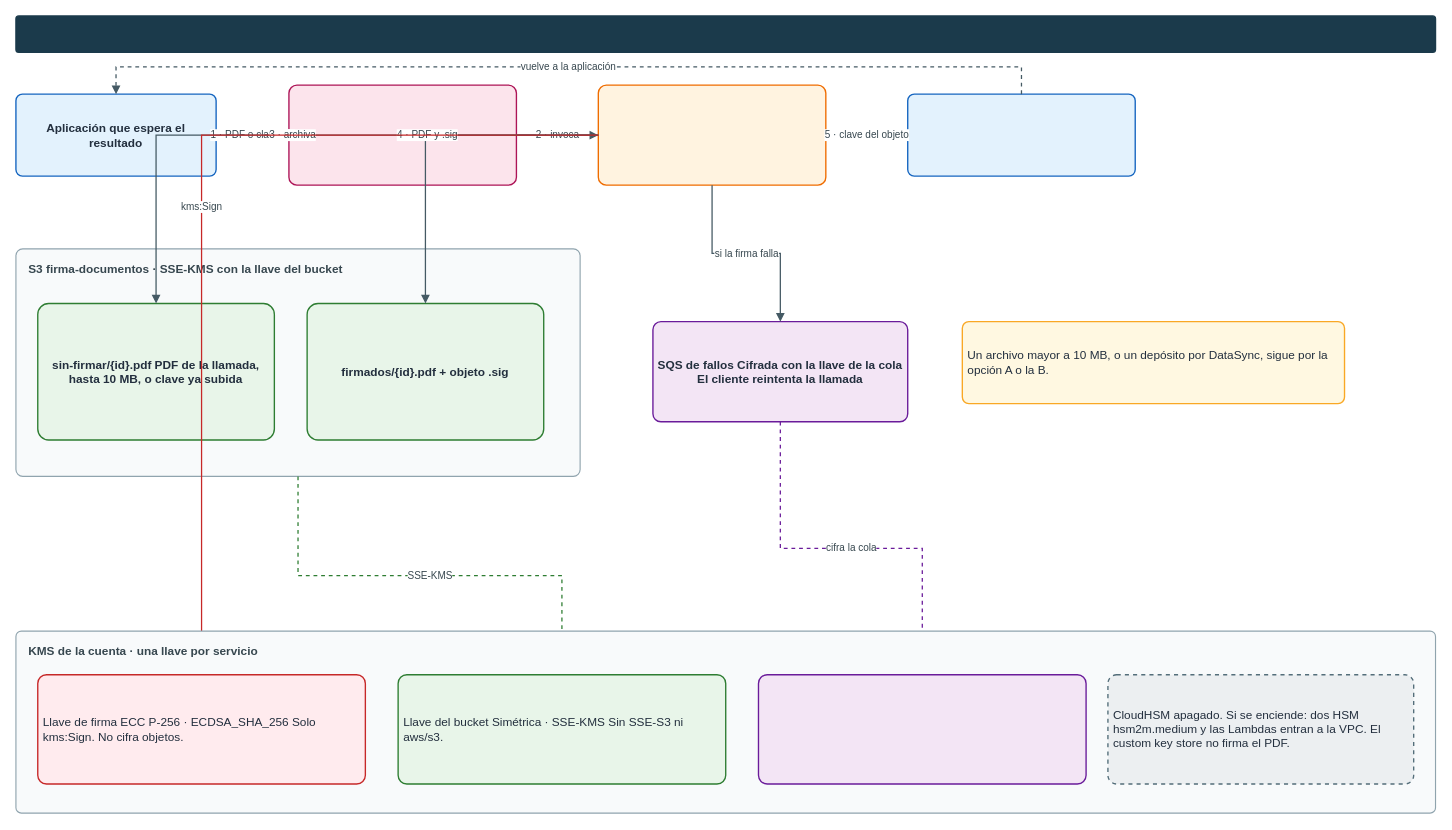
Some shapes in this 1452 by 830 pixel diagram are drawn without their labels. Each missing label, with the centre of its shape:
API Gateway POST /documentos/firmar AWS_IAM · tope 29 s: (402,134)
Lambda síncrona Graviton Firma dentro de la llamada: (711,134)
Llave de la cola Simétrica · SQS y DLQ Sin SSE-SQS ni aws/sqs.: (921,729)
Opción C · firma en la misma llamada: (725,34)
Respuesta JSON con la clave en firmados/. No devuelve el PDF.: (1021,134)
